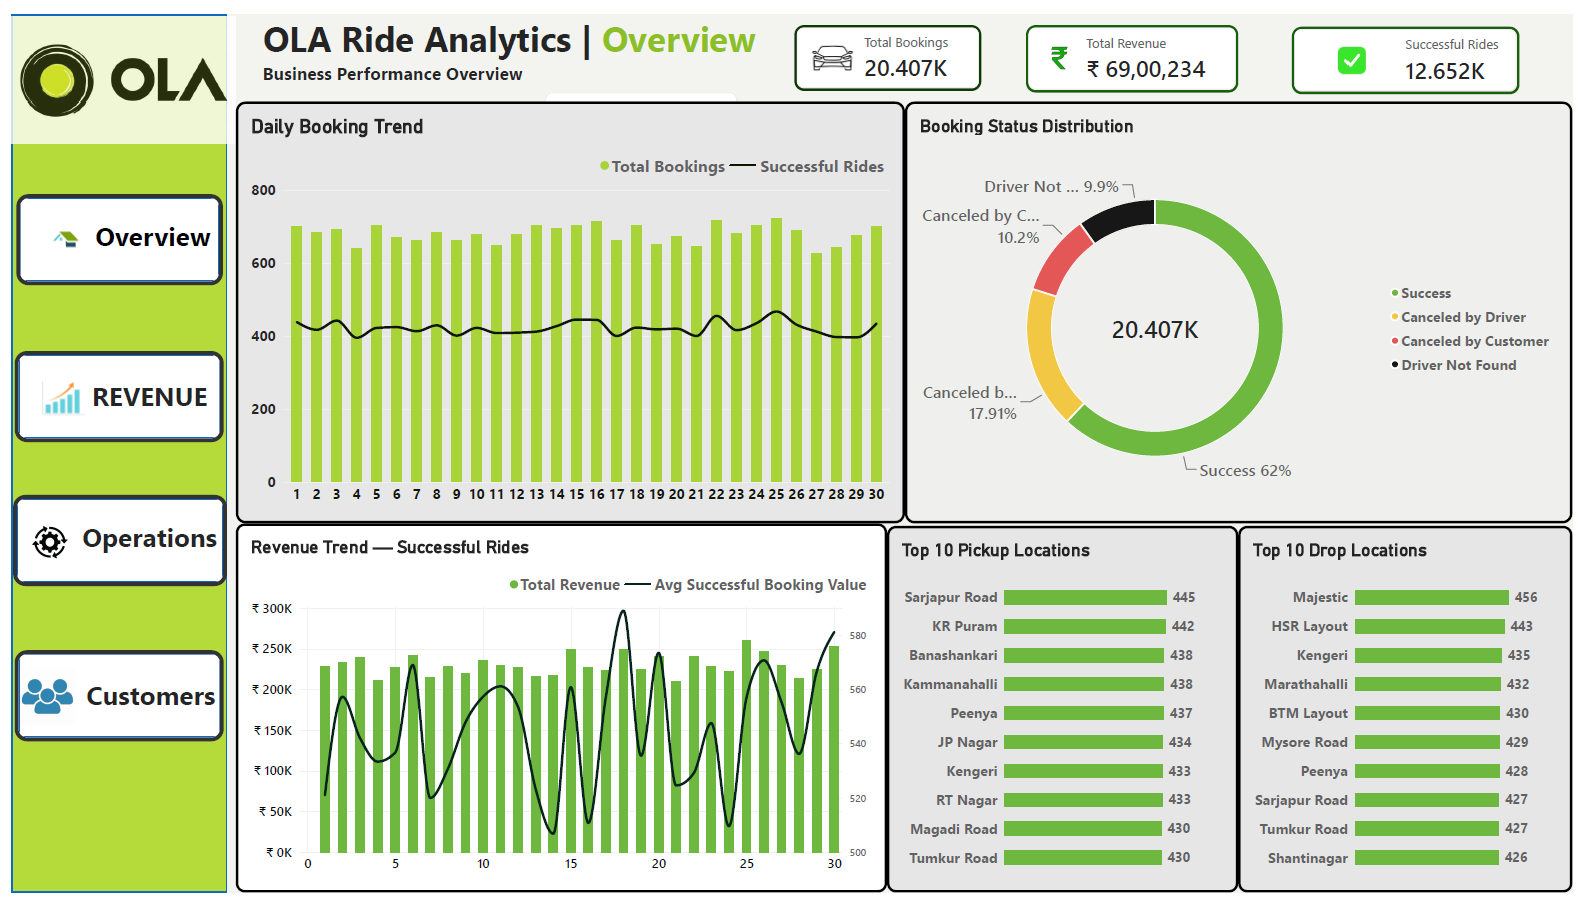

The page's visual inventory and layout, read from the dashboard file:
{"tool":"powerbi","page":{"name":"Overview","canvas":[1920,1080],"ordinal":0},"visuals":[{"type":"shape","box":[0,0,265,1080.4],"z":0},{"type":"image","box":[0,0,276.1,162],"z":1000},{"type":"shape","box":[5.5,220.9,254,112.3],"z":2000},{"type":"image","box":[27.6,220.9,79.1,110.4],"z":3000},{"type":"textbox","box":[103.1,250.3,152.3,55.6],"z":4000},{"type":"shape","box":[3.7,414.1,257.7,112.3],"z":5000},{"type":"image","box":[7.4,436.2,112.3,69.9],"z":6000},{"type":"textbox","box":[99.4,447.2,152.3,47.3],"z":7000},{"type":"shape","box":[1.8,590.8,263.2,112.3],"z":8000},{"type":"image","box":[7.4,612.9,79.1,71.8],"z":9000},{"type":"textbox","box":[86.5,620.2,177,59.7],"z":10000},{"type":"shape","box":[3.7,782.2,257.7,112.3],"z":11000},{"type":"textbox","box":[92,813.5,168.8,51.5],"z":12000},{"type":"image","box":[7.4,804.3,73.6,69.9],"z":13000},{"type":"textbox","box":[309.2,0,638.7,127],"z":16001},{"type":"cardVisual","fields":{"Data":["ola bookings_clean.Avg Ride Distance"]},"box":[657.1,95.7,235.6,92],"z":16002},{"type":"cardVisual","fields":{"Data":["ola bookings_clean.Total Bookings"]},"box":[962.6,12.9,230.1,81],"z":16003},{"type":"cardVisual","fields":{"Data":["ola bookings_clean.Successful Rides"]},"box":[1575.5,14.7,279.8,82.8],"z":16004},{"type":"cardVisual","fields":{"Data":["ola bookings_clean.Total Revenue"]},"box":[1247.9,12.9,261.4,82.8],"z":16006},{"type":"lineClusteredColumnComboChart","title":"Daily Booking Trend","fields":{"Category":["ola bookings_clean.Date.1.Variation.Date Hierarchy.Day"],"Y":["ola bookings_clean.Total Bookings"],"Y2":["ola bookings_clean.Successful Rides"]},"box":[276.1,106.7,822.7,519],"z":16008},{"type":"donutChart","title":"Booking Status Distribution","fields":{"Category":["ola bookings_clean.Booking_Status"],"Y":["ola bookings_clean.Total Bookings"]},"box":[1098.8,106.7,820.9,519],"z":16009},{"type":"lineClusteredColumnComboChart","title":"Revenue Trend — Successful Rides","fields":{"Category":["ola bookings_clean.Date.1.Variation.Date Hierarchy.Day"],"Y":["ola bookings_clean.Total Revenue"],"Y2":["ola bookings_clean.Avg Successful Booking Value"]},"box":[276.1,625.8,800.6,454.6],"z":16011},{"type":"clusteredBarChart","title":"Top 10 Pickup Locations","fields":{"Category":["ola bookings_clean.Pickup_Location"],"Y":["ola bookings_clean.Total Bookings"]},"box":[1076.7,629.5,432.5,450.9],"z":16012},{"type":"clusteredBarChart","title":"Top 10 Drop Locations","fields":{"Category":["ola bookings_clean.Drop_Location"],"Y":["ola bookings_clean.Total Bookings"]},"box":[1509.2,629.5,410.4,450.9],"z":16013}]}

Visuals, with their boxes in screenshot pixels (x1, y1, x2, y2), scaled from the page's 1920x1080 canvas onto the 1585x902 screenshot:
shape: <region>0, 0, 219, 901</region>
image: <region>0, 0, 228, 135</region>
shape: <region>5, 184, 214, 278</region>
image: <region>23, 184, 88, 277</region>
textbox: <region>85, 209, 211, 255</region>
shape: <region>3, 346, 216, 440</region>
image: <region>6, 364, 99, 423</region>
textbox: <region>82, 373, 208, 413</region>
shape: <region>1, 493, 219, 587</region>
image: <region>6, 512, 71, 572</region>
textbox: <region>71, 518, 218, 568</region>
shape: <region>3, 653, 216, 747</region>
textbox: <region>76, 679, 215, 722</region>
image: <region>6, 672, 67, 730</region>
textbox: <region>255, 0, 783, 106</region>
cardVisual - ola bookings_clean.Avg Ride Distance: <region>542, 80, 737, 157</region>
cardVisual - ola bookings_clean.Total Bookings: <region>795, 11, 985, 78</region>
cardVisual - ola bookings_clean.Successful Rides: <region>1301, 12, 1532, 81</region>
cardVisual - ola bookings_clean.Total Revenue: <region>1030, 11, 1246, 80</region>
"Daily Booking Trend" lineClusteredColumnComboChart: <region>228, 89, 907, 523</region>
"Booking Status Distribution" donutChart: <region>907, 89, 1584, 523</region>
"Revenue Trend — Successful Rides" lineClusteredColumnComboChart: <region>228, 523, 889, 901</region>
"Top 10 Pickup Locations" clusteredBarChart: <region>889, 526, 1246, 901</region>
"Top 10 Drop Locations" clusteredBarChart: <region>1246, 526, 1584, 901</region>
